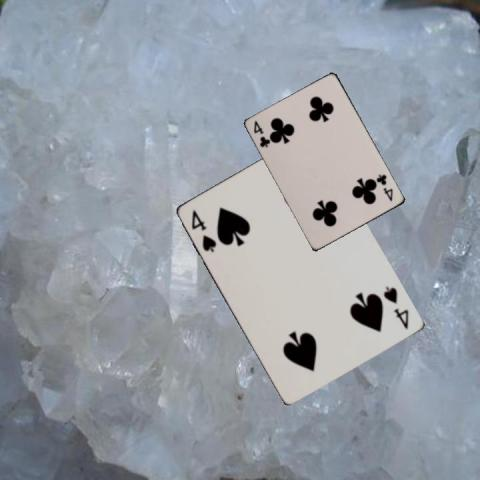4c: (374, 171, 395, 203), (251, 117, 272, 149)
4s: (380, 283, 410, 330), (188, 207, 217, 254)
